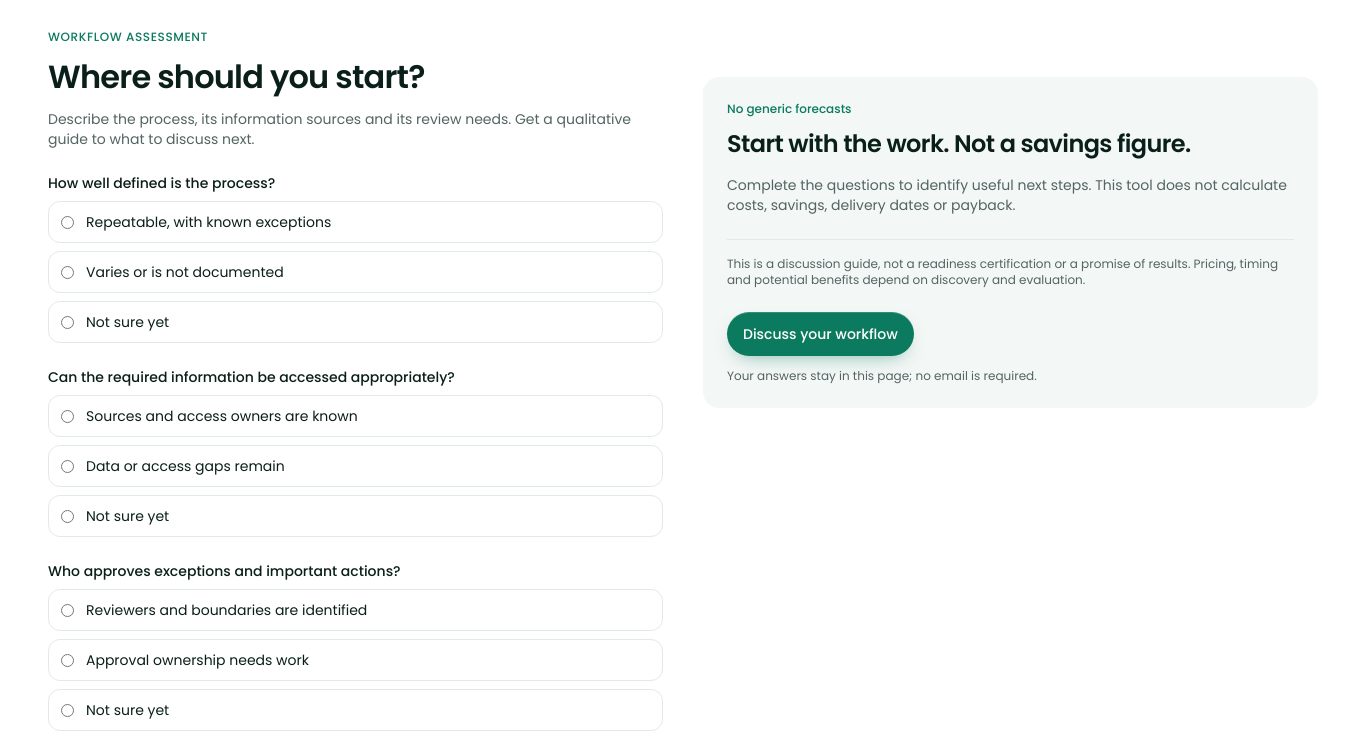
Scenario: qualitative workflow assessment › starts blank, shows guidance on submit and clears stale results when answers change
Expected: the element named "Assessment guidance" shows "Not a savings figure.", [727,127,1191,160]
Step 1. Click the radio button labelled "Repeatable, with known exceptions" → (68, 222), box [61,216,74,229]
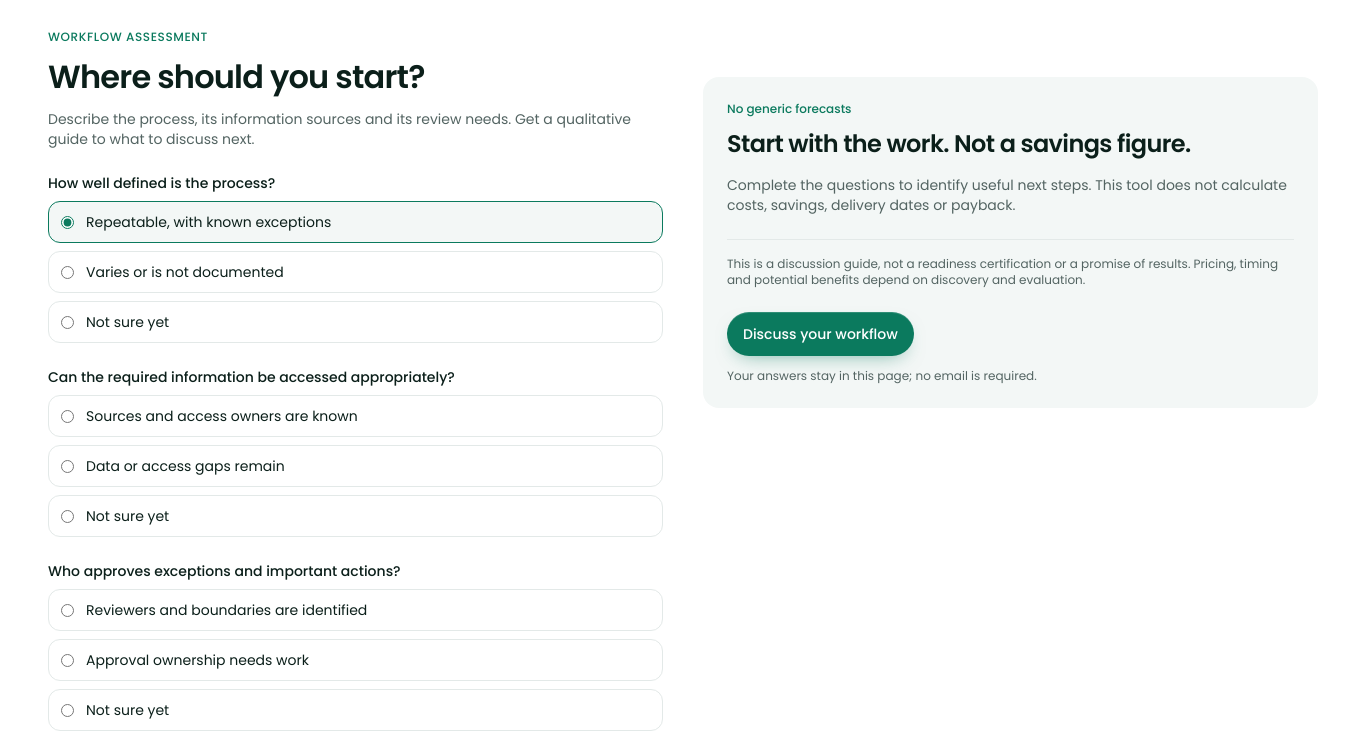
Step 2. Click the radio button labelled "Sources and access owners are known" → (68, 416), box [61,410,74,423]
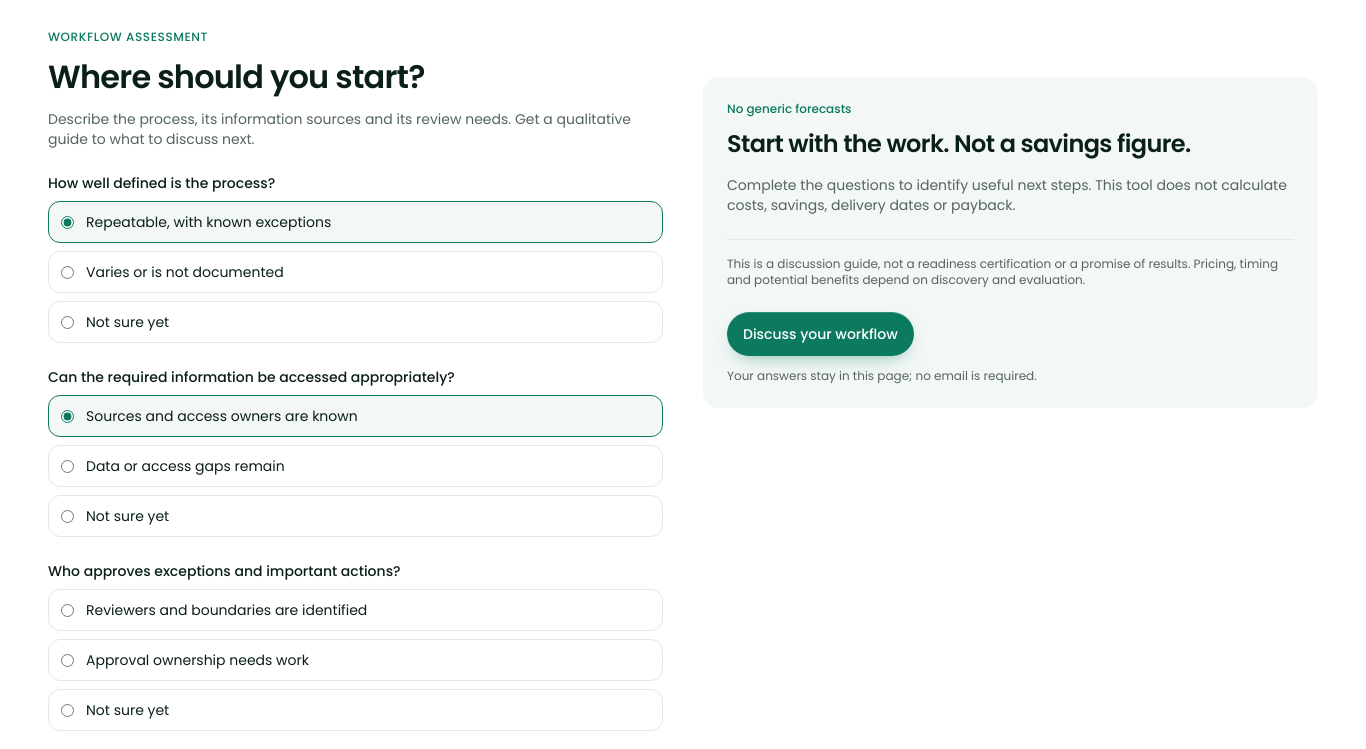
Step 3. Click the radio button labelled "Reviewers and boundaries are identified" → (68, 610), box [61,604,74,617]
(page scrolled)
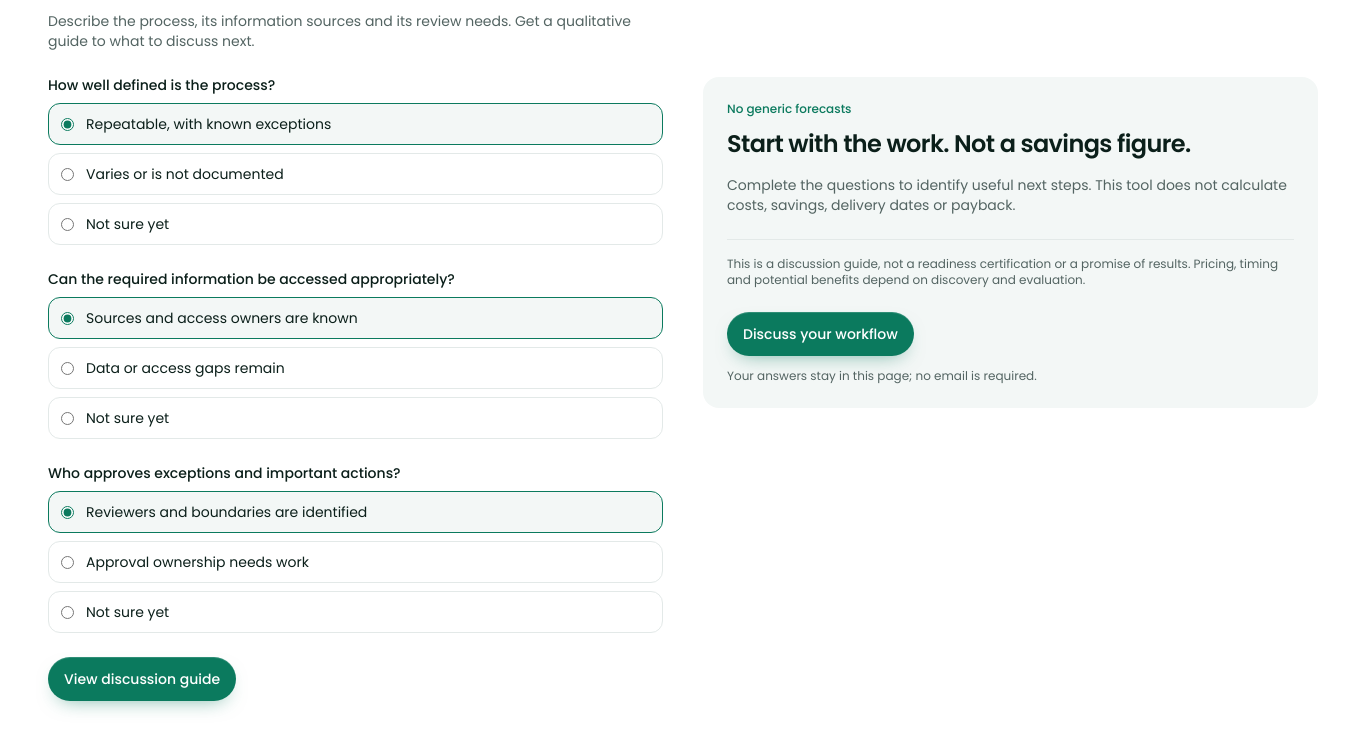
Step 4. Click the button "View discussion guide" → (142, 679), box [48,657,236,701]
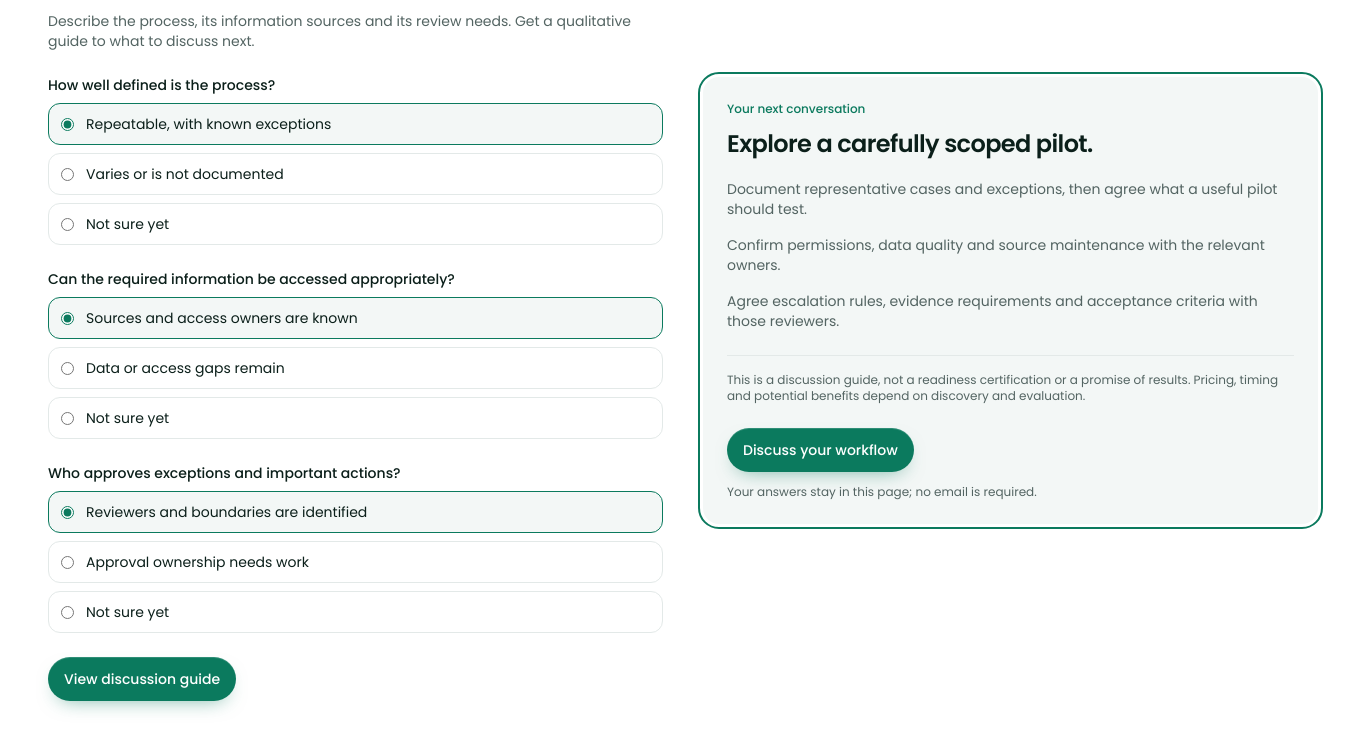
Expected: the heading "Explore a carefully scoped pilot." is shown, [727,127,1093,160]
Step 5. Click the radio button labelled "Data or access gaps remain" → (68, 368), box [61,362,74,375]
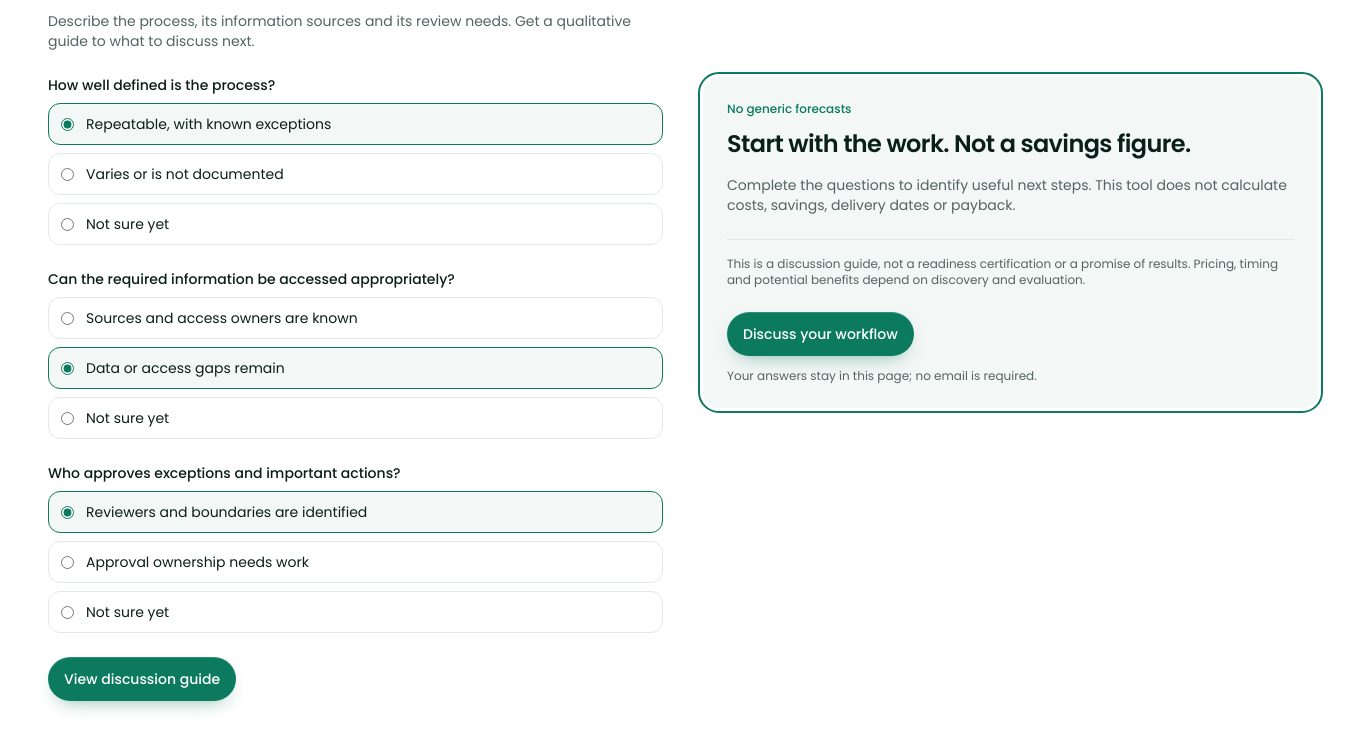
Expected: the heading "Explore a carefully scoped pilot." is gone
Step 6. Click the button "View discussion guide" → (142, 679), box [48,657,236,701]
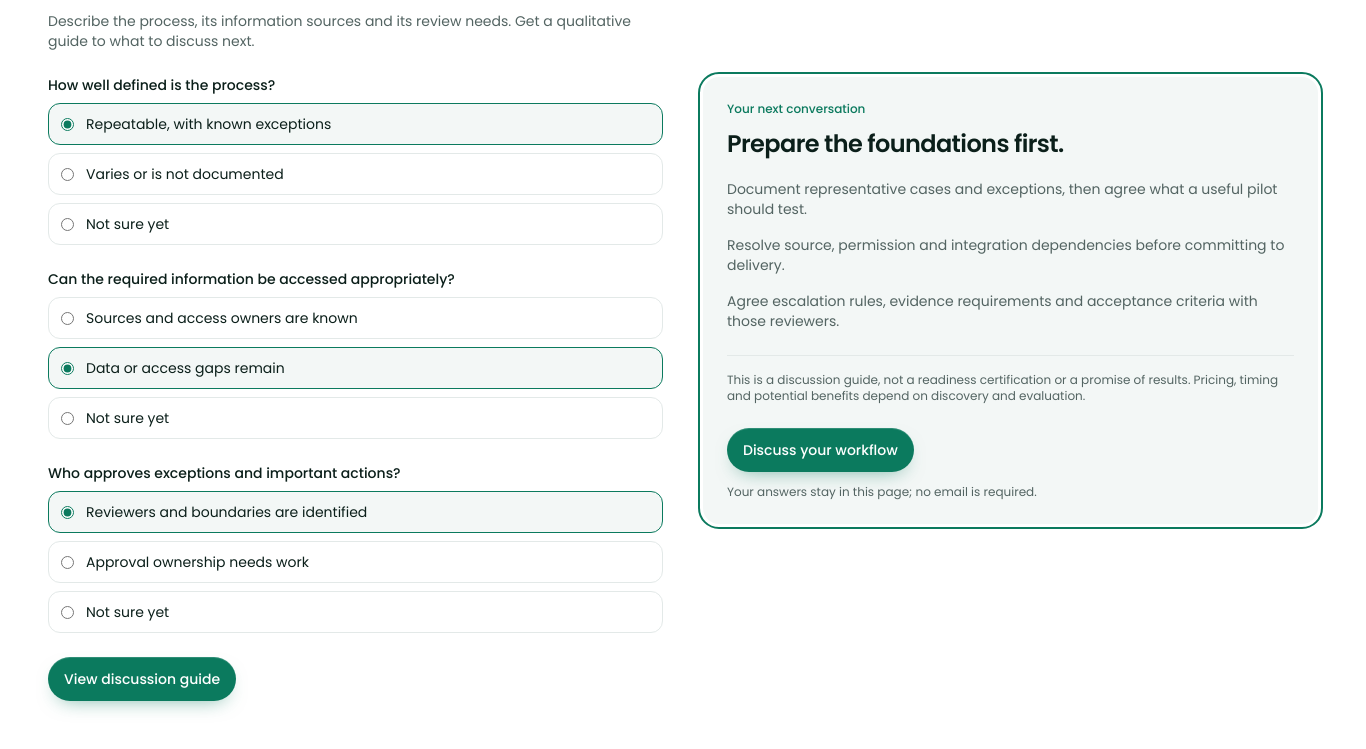
Expected: the heading "Prepare the foundations first." is shown, [727,127,1064,160]
